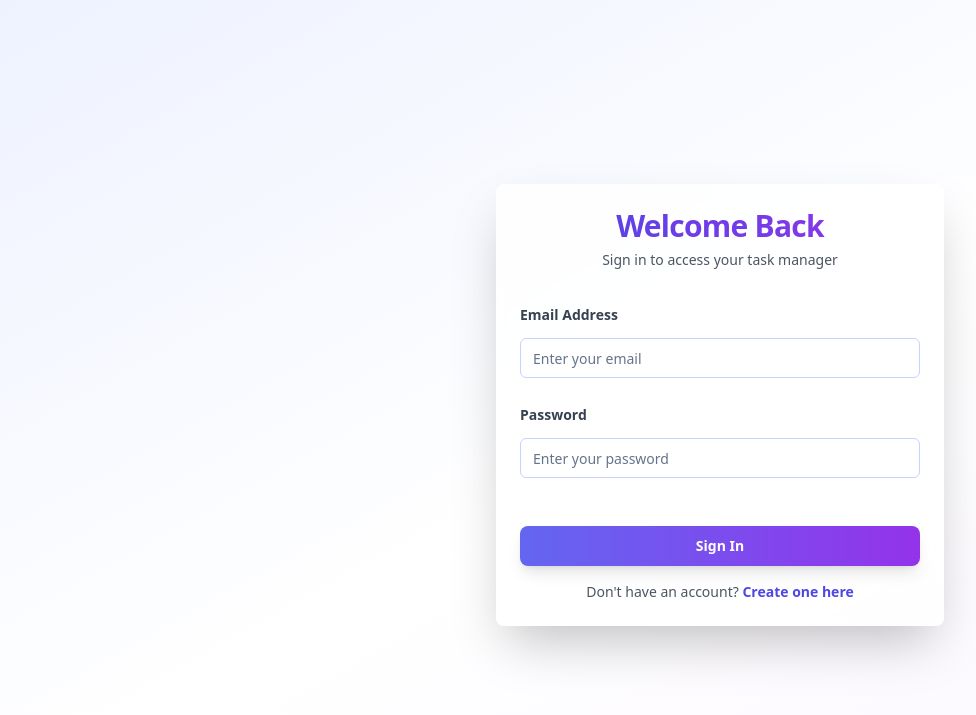
Test case: LoginPage › validates email field
Submit the form, box [496,302,944,626]
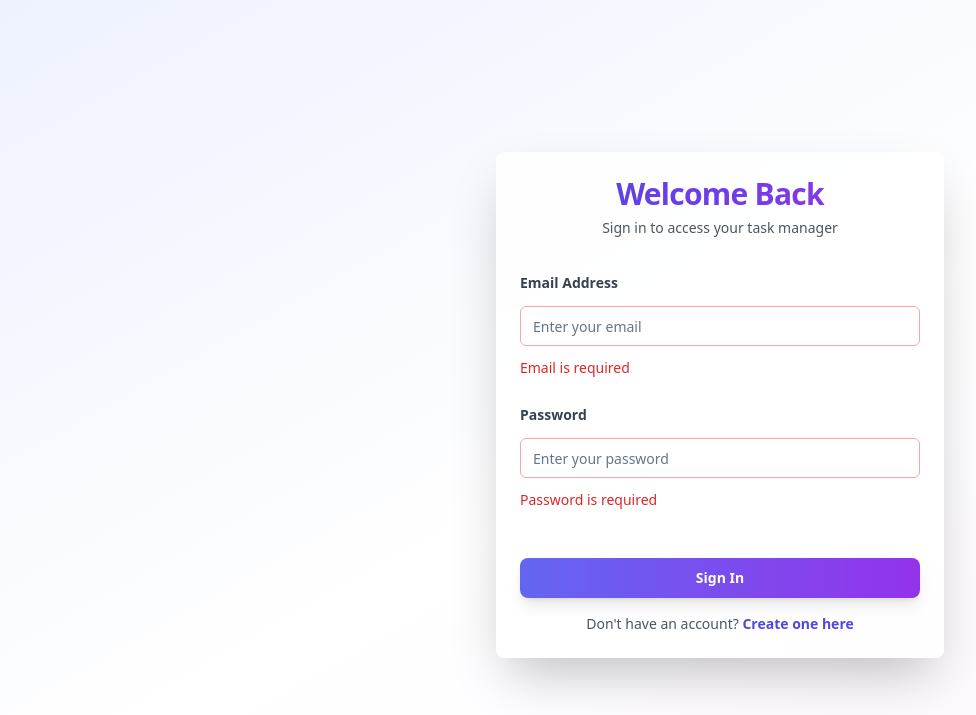
expect the text "Email is required" is shown: met, box [520,358,630,377]
In the field with placeholder "Enter your email": (720, 326) [520,306,920,346], type "invalid-email"
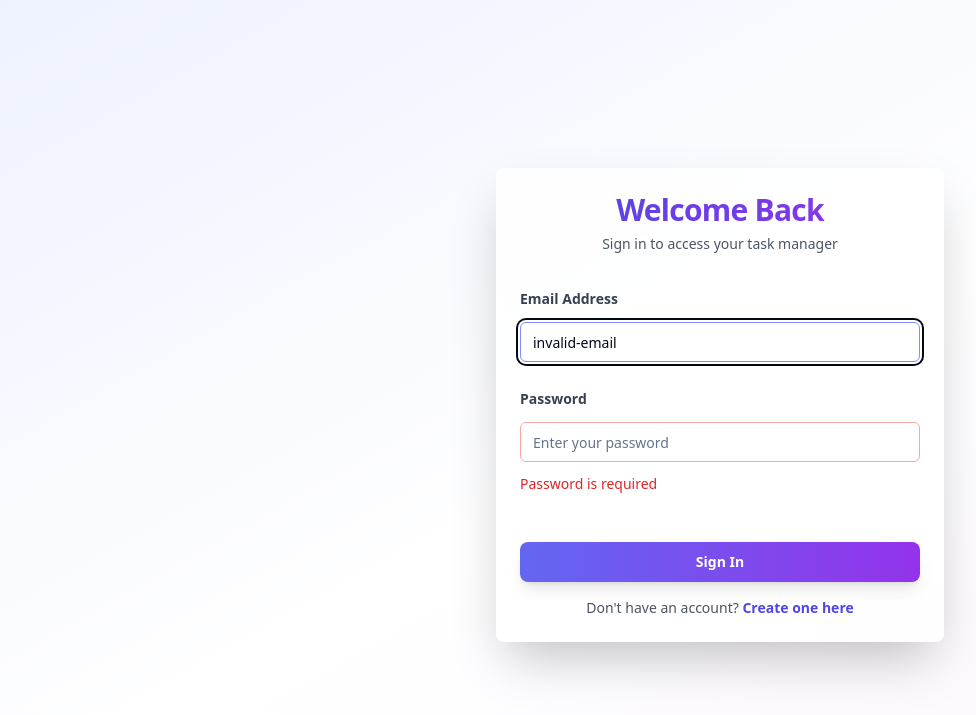
Submit the form, box [496,286,944,642]
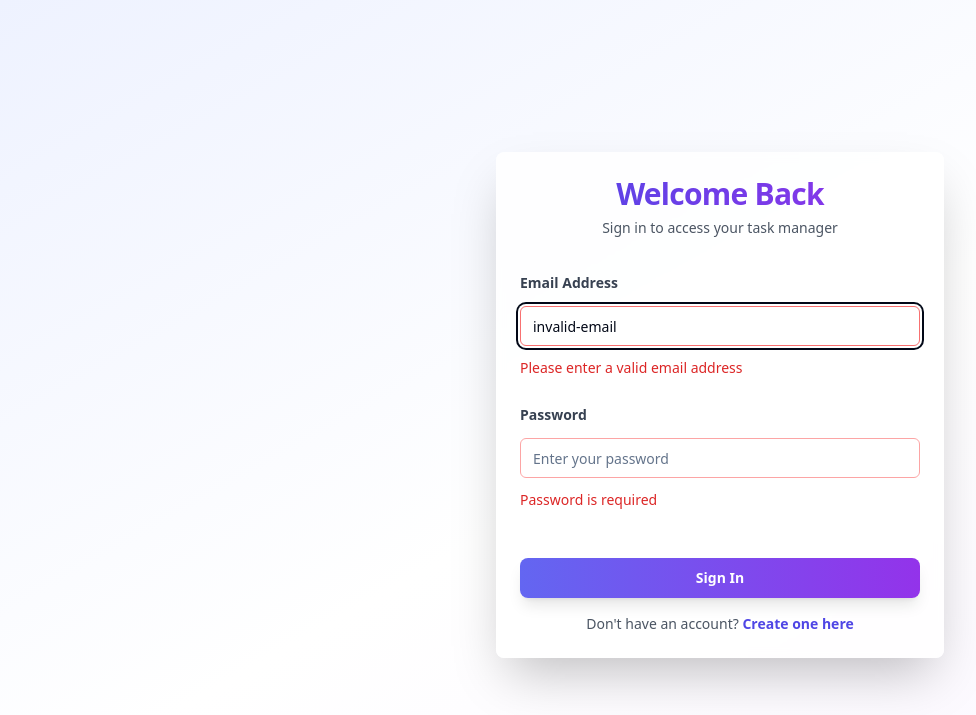
expect the text "Please enter a valid email address" is shown: met, box [520,358,742,377]
